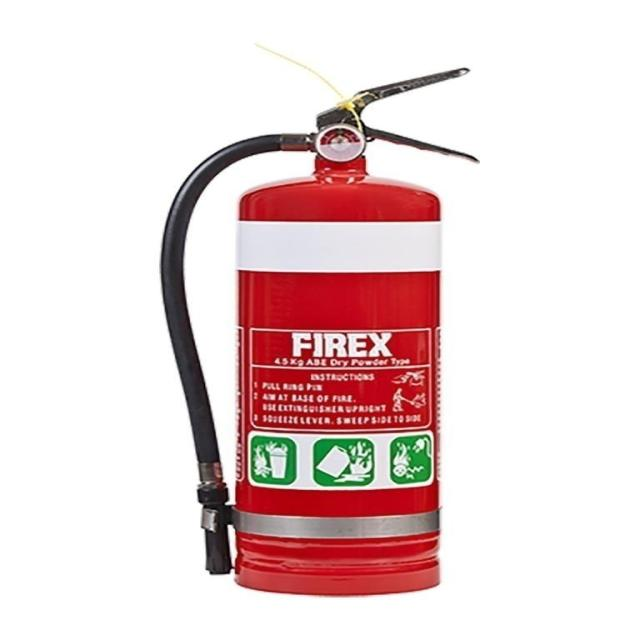fire_extinguisher: (145, 62, 487, 608)
